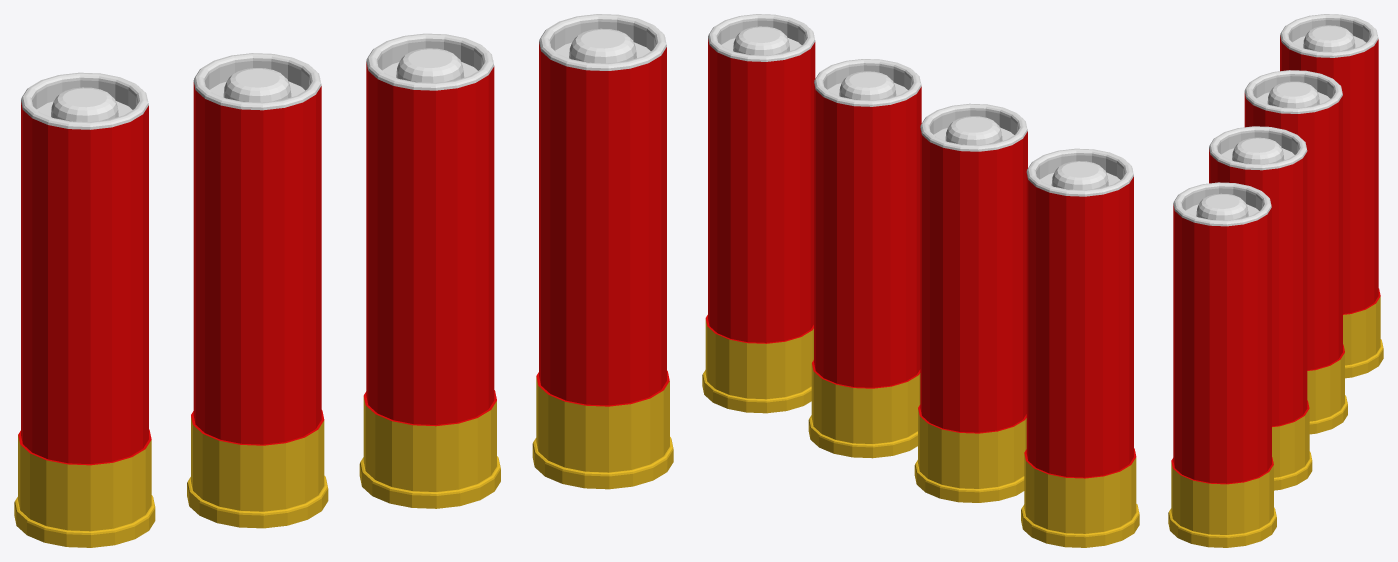
File: Shotgun rounds.glb
3 views of the same model, side by side, from view 1: azimuth 30°, elevation 25°; view 2: azimuth 150°, elevation 25°; view 3: azimuth 270°, elevation 25° (orthographic). The views are drawn at different scales.
Parts seen in each view (by area): view 1: Cylinder007, Cylinder008, Cylinder006, Cylinder005; view 2: Cylinder005, Cylinder008, Cylinder007, Cylinder006; view 3: Cylinder006, Cylinder007, Cylinder005, Cylinder008.
Boxes of the visible parts, x1=… form: Cylinder007: x1=187, y1=53, x2=328, y2=528; Cylinder008: x1=359, y1=33, x2=500, y2=508; Cylinder006: x1=532, y1=14, x2=673, y2=489; Cylinder005: x1=14, y1=72, x2=155, y2=547; Cylinder005: x1=1021, y1=148, x2=1139, y2=547; Cylinder008: x1=808, y1=59, x2=921, y2=458; Cylinder007: x1=914, y1=103, x2=1027, y2=502; Cylinder006: x1=702, y1=14, x2=815, y2=413; Cylinder006: x1=1168, y1=182, x2=1276, y2=547; Cylinder007: x1=1244, y1=70, x2=1347, y2=434; Cylinder005: x1=1280, y1=14, x2=1383, y2=378; Cylinder008: x1=1209, y1=126, x2=1312, y2=490.
Bounding box in the file's own units: 728620 × 512535 × 309422.
